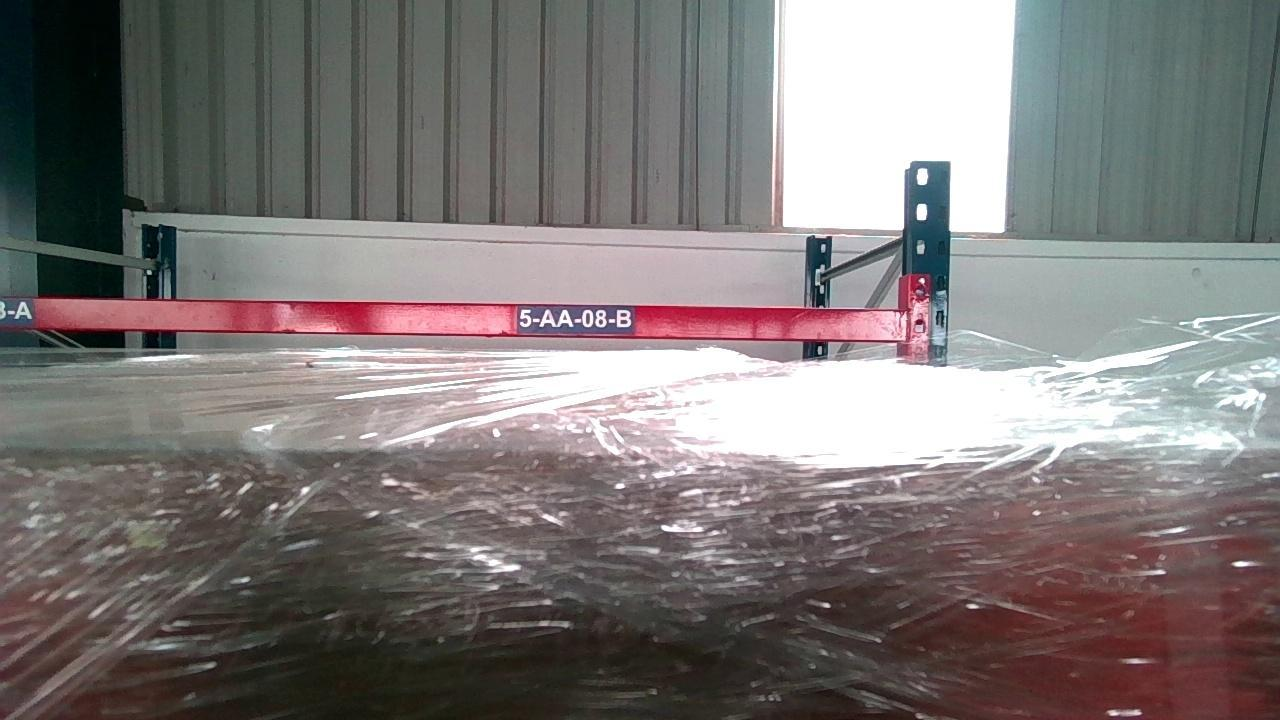h_rack: (0, 297, 905, 341)
